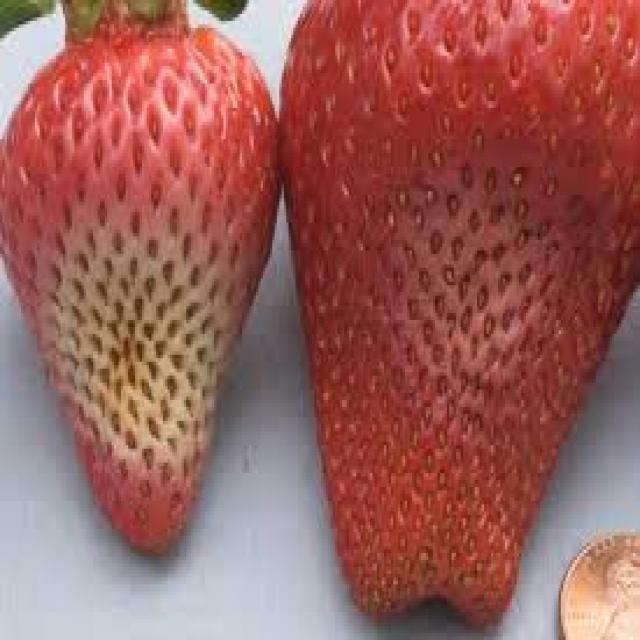Podredumbre de cuero: (291, 7, 640, 616), (7, 51, 280, 552)
